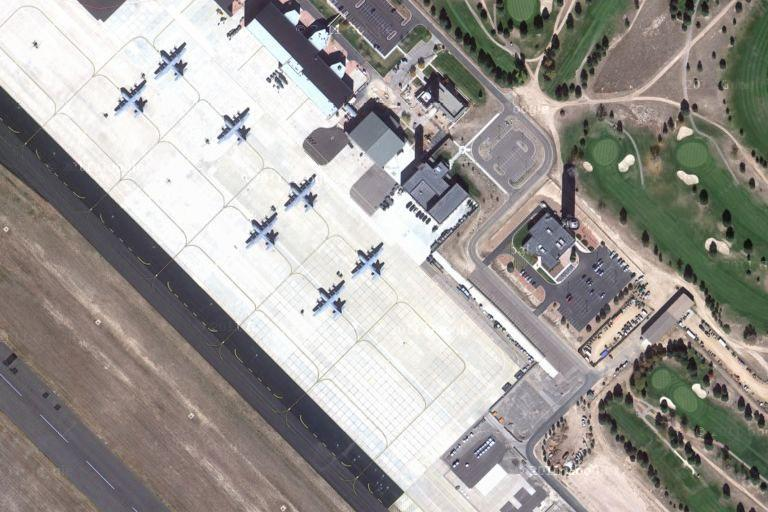C-130: (215, 108, 255, 148), (348, 243, 389, 282), (152, 43, 192, 81), (242, 212, 283, 248), (313, 281, 352, 318), (112, 80, 151, 116), (283, 175, 320, 211)
